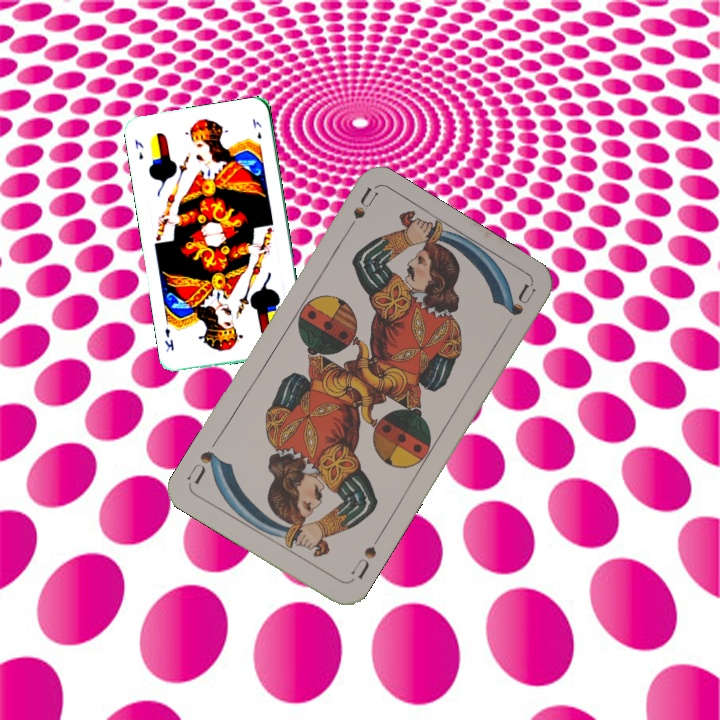EK: (131, 135, 146, 162)
SU: (339, 184, 380, 240), (347, 531, 383, 582)
